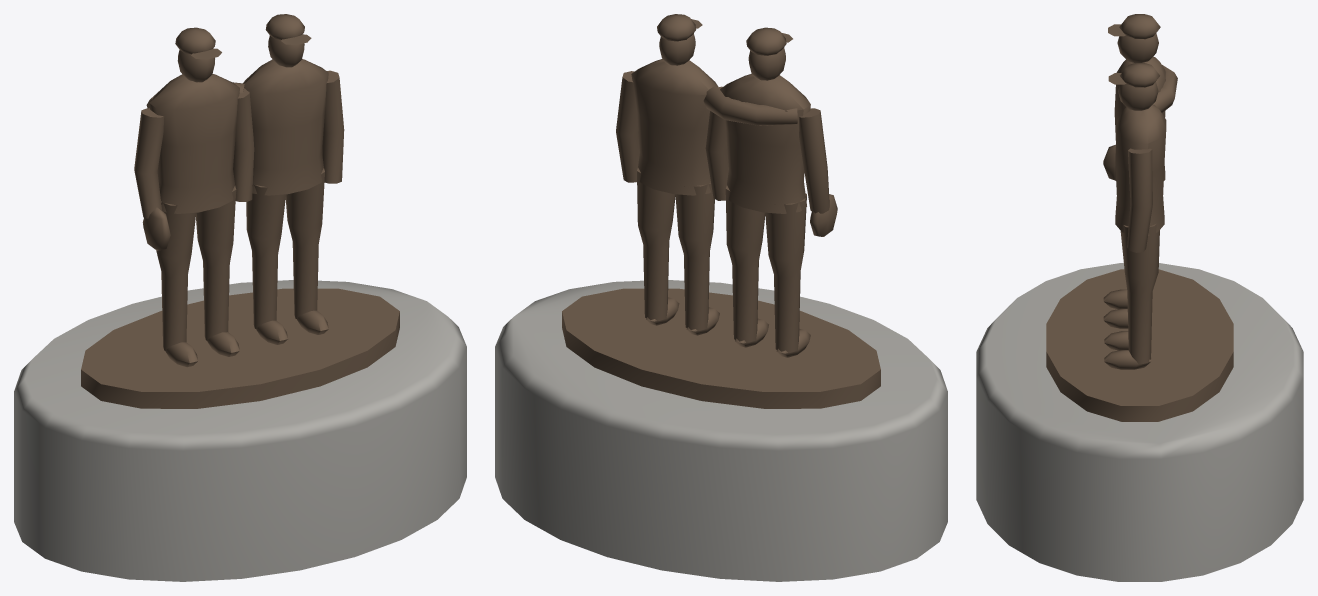
File: nyc-reese-robinson-monument.glb
The picture shows the model from 3 angles, left to right: view 1: azimuth 30°, elevation 25°; view 2: azimuth 150°, elevation 25°; view 3: azimuth 270°, elevation 25°; orthographic projection. The views are drawn at different scales.
Parts seen in each view (by area): view 1: Jackie Robinson and Pee Wee Reese Monument; view 2: Jackie Robinson and Pee Wee Reese Monument; view 3: Jackie Robinson and Pee Wee Reese Monument.
Boxes of the visible parts, box(x1,y1,x2,y2) form: Jackie Robinson and Pee Wee Reese Monument: box(14, 14, 466, 581); Jackie Robinson and Pee Wee Reese Monument: box(495, 14, 947, 581); Jackie Robinson and Pee Wee Reese Monument: box(976, 14, 1303, 581).
Bounding box in the file's own units: 2.58 × 2.86 × 1.88.
